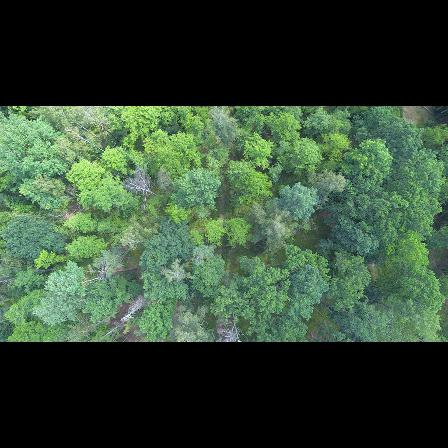Dead: (120, 172, 166, 207), (214, 307, 251, 343), (119, 296, 155, 326), (79, 259, 118, 283)
